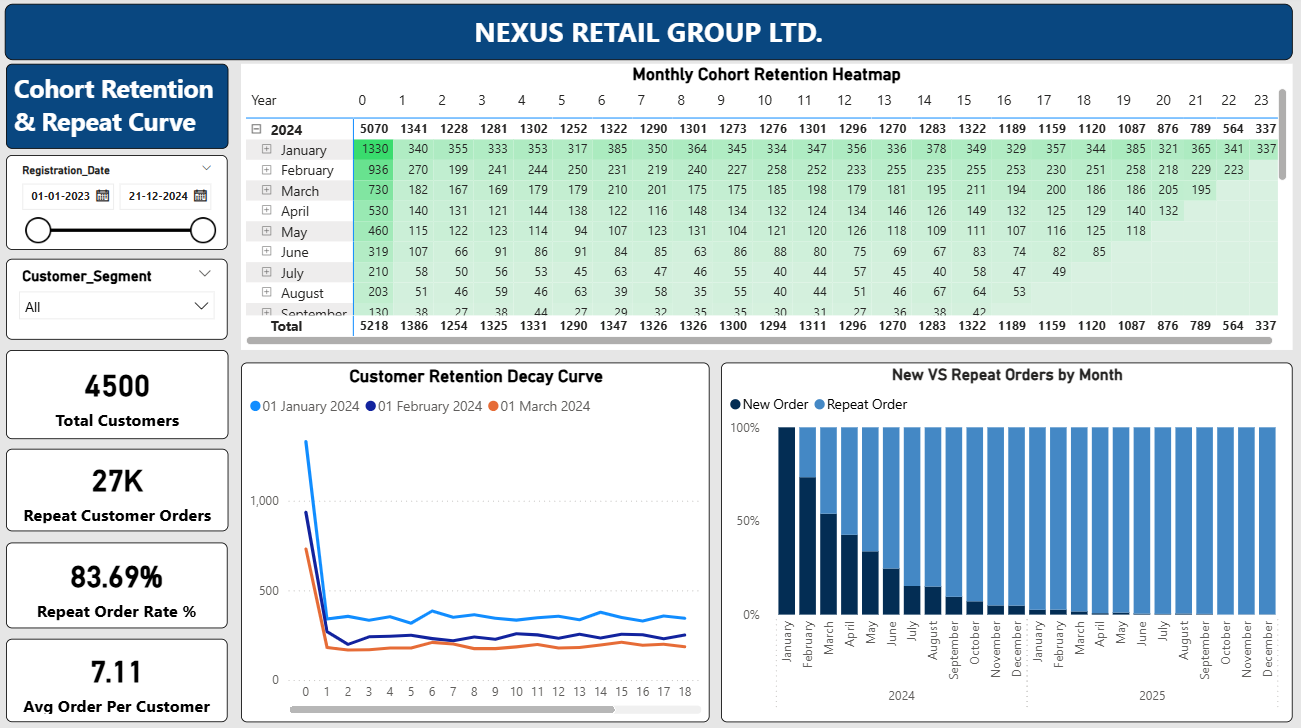

What the dashboard file says about the page in this screenshot:
{"tool":"powerbi","page":{"name":"Cohort Retention & Repeat Curve","canvas":[1280,720],"ordinal":2},"visuals":[{"type":"textbox","box":[9,8,1260,55],"z":0},{"type":"textbox","box":[9.8,67.3,217.7,83.2],"z":1000},{"type":"slicer","fields":{"Values":["Dim_Customer.Customer_Segment"]},"box":[9.8,258,216.4,79.5],"z":2000},{"type":"slicer","fields":{"Values":["Dim_Customer.Registration_Date"]},"box":[9.8,156.5,216.4,92.9],"z":3000},{"type":"card","fields":{"Values":["Measures (2).Total Customers"]},"box":[9.8,347.3,217.7,86.8],"z":4000},{"type":"card","fields":{"Values":["Measures (2).Repeat Customer Orders"]},"box":[9.8,443.9,217.7,80.7],"z":5000},{"type":"card","fields":{"Values":["Measures (2).Repeat Order Rate %"]},"box":[9.8,535.6,216.4,84.4],"z":6000},{"type":"card","fields":{"Values":["Measures (2).Avg Order Per Customer"]},"box":[9.8,629.8,216.4,81.9],"z":7000},{"type":"hundredPercentStackedColumnChart","title":"New VS Repeat Orders by Month","fields":{"Series":["Fact_Orders.New_VS_Repeat_Order"],"Category":["Fact_Orders.Order_YearMonth.Variation.Date Hierarchy.Year","Fact_Orders.Order_YearMonth.Variation.Date Hierarchy.Month","Fact_Orders.Order_YearMonth.Variation.Date Hierarchy.Day"],"Y":["Count(Fact_Orders.Order_ID)"]},"box":[709.2,359.5,558.8,352.2],"z":8000},{"type":"pivotTable","title":"Monthly Cohort Retention Heatmap","fields":{"Rows":["Fact_Orders.Acquisition_Cohort_Group.Variation.Date Hierarchy.Year","Fact_Orders.Acquisition_Cohort_Group.Variation.Date Hierarchy.Month","Fact_Orders.Acquisition_Cohort_Group.Variation.Date Hierarchy.Day"],"Columns":["Fact_Orders.Cohort_Index"],"Values":["Measures (2).Total Orders"]},"box":[239.7,67.3,1028.4,280],"z":9000},{"type":"lineChart","title":"Customer Retention Decay Curve","fields":{"Category":["Fact_Orders.Cohort_Index"],"Series":["Fact_Orders.Acquisition_Cohort_Group"],"Y":["CountNonNull(Fact_Orders.Clean_Customer_ID)"]},"box":[239.7,359.5,458.6,352.2],"z":10000}]}

Visuals, with their boxes in screenshot pixels (x1, y1, x2, y2), scaled from the page's 1280x720 canvas onto the 1301x728 screenshot:
textbox: region(9, 8, 1290, 64)
textbox: region(10, 68, 231, 152)
slicer - Dim_Customer.Customer_Segment: region(10, 261, 230, 341)
slicer - Dim_Customer.Registration_Date: region(10, 158, 230, 252)
card - Measures (2).Total Customers: region(10, 351, 231, 439)
card - Measures (2).Repeat Customer Orders: region(10, 449, 231, 530)
card - Measures (2).Repeat Order Rate %: region(10, 542, 230, 627)
card - Measures (2).Avg Order Per Customer: region(10, 637, 230, 720)
"New VS Repeat Orders by Month" hundredPercentStackedColumnChart: region(721, 363, 1289, 720)
"Monthly Cohort Retention Heatmap" pivotTable: region(244, 68, 1289, 351)
"Customer Retention Decay Curve" lineChart: region(244, 363, 710, 720)
